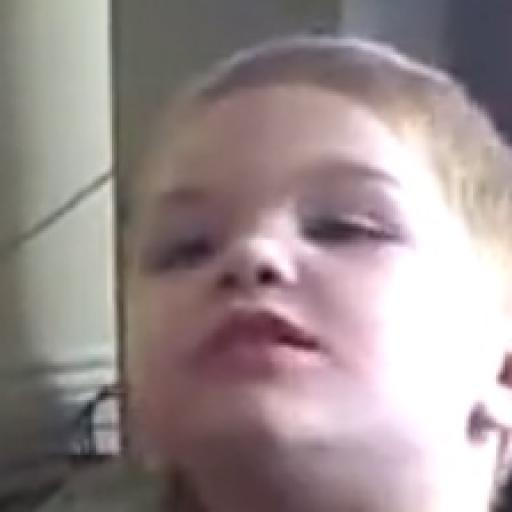Autism: (102, 33, 512, 512)
